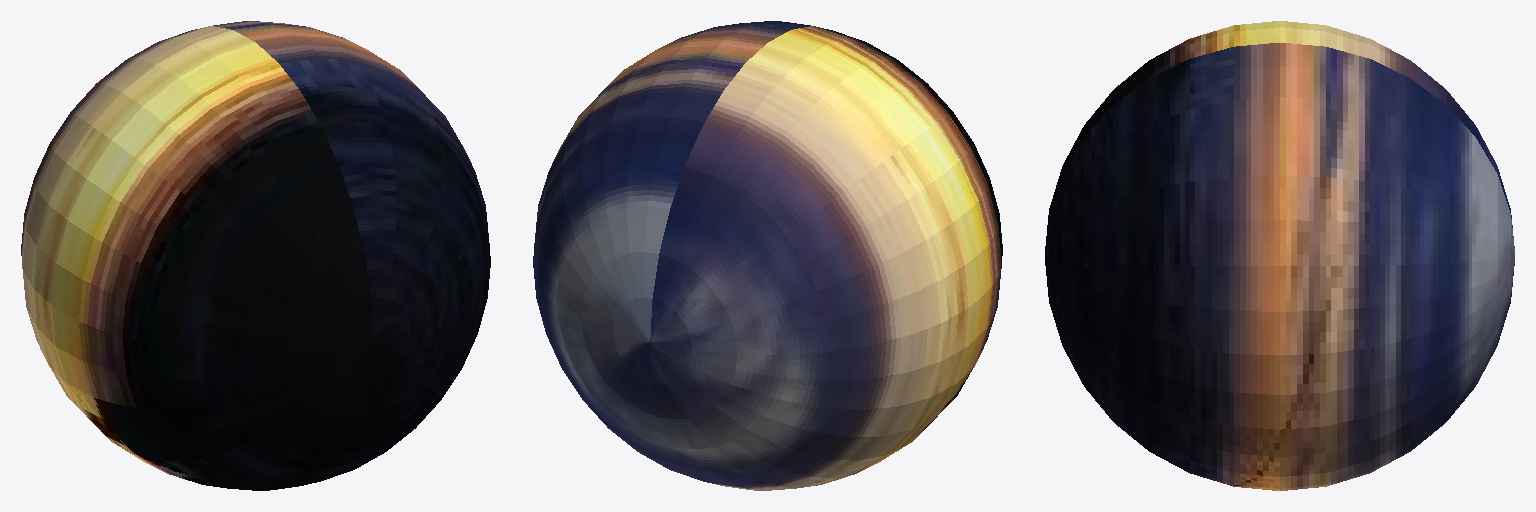
3 views of the same model, side by side, from view 1: azimuth 30°, elevation 25°; view 2: azimuth 150°, elevation 25°; view 3: azimuth 270°, elevation 25° (orthographic).
Visible parts, largest first — view 1: Sphere01; view 2: Sphere01; view 3: Sphere01.
Boxes of the visible parts, <box> form: Sphere01: <box>21,21,490,490</box>; Sphere01: <box>533,21,1002,490</box>; Sphere01: <box>1045,21,1514,490</box>.
Bounding box in the file's own units: 74.91 × 74.91 × 74.91.
1 materials, 1 textured.